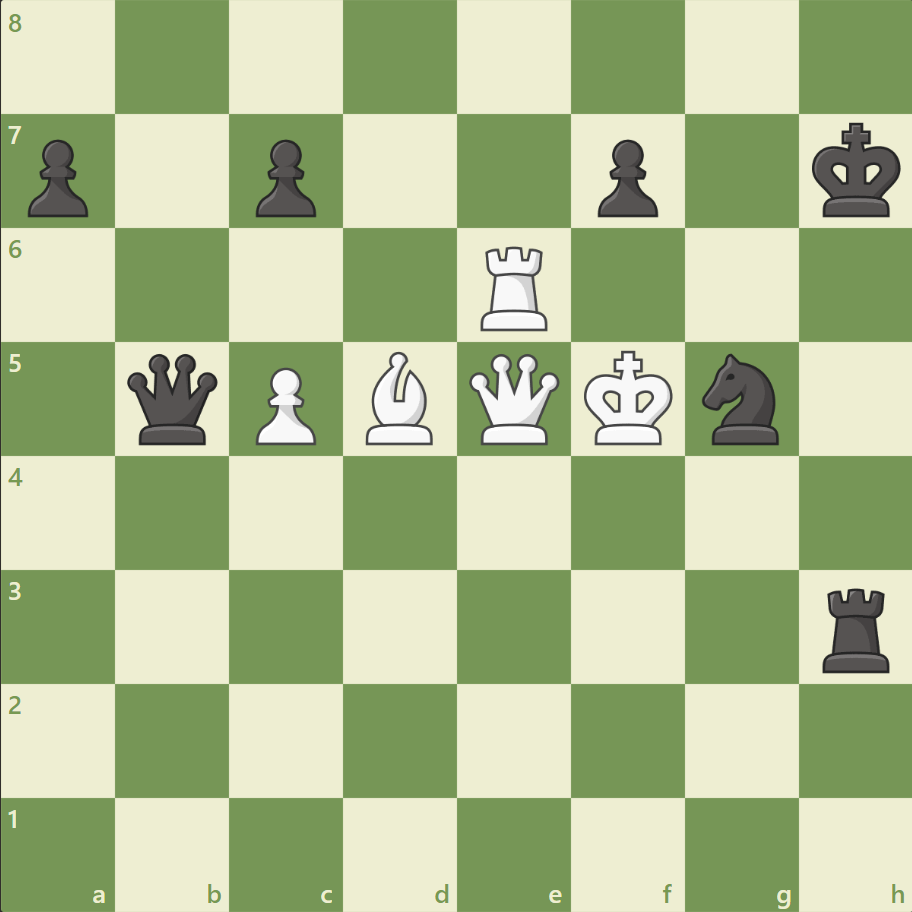B: (358, 347, 442, 449)
K: (579, 344, 679, 452)
P: (247, 359, 322, 450)
Q: (464, 349, 563, 449)
R: (473, 239, 556, 336)
k: (806, 117, 906, 225)
n: (692, 348, 789, 450)
p: (20, 132, 95, 223), (247, 132, 322, 223), (588, 132, 662, 223)
q: (124, 349, 223, 449)
r: (814, 579, 897, 676)
